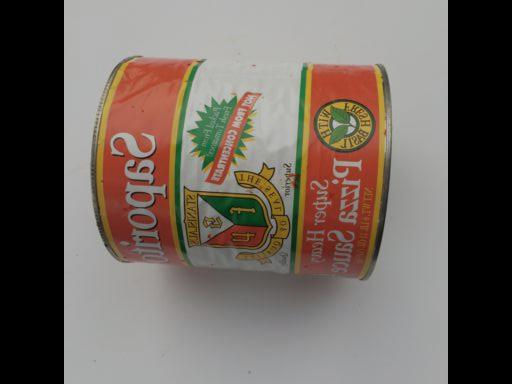metal: (90, 57, 393, 280)
